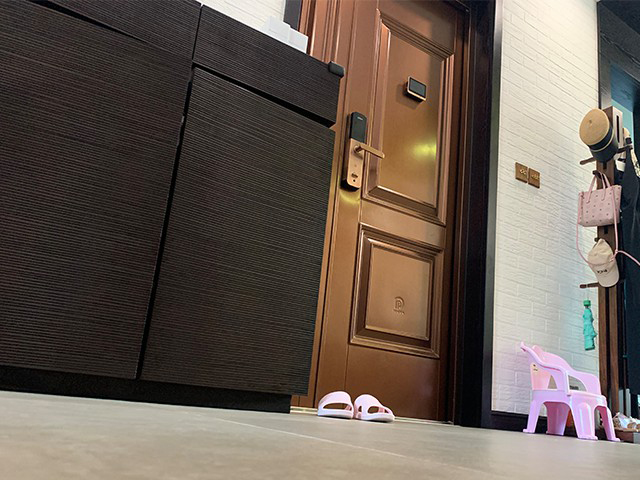cabinet: (1, 1, 346, 414)
slippers: (315, 389, 354, 418), (358, 392, 397, 421)
stool: (520, 340, 621, 442)
